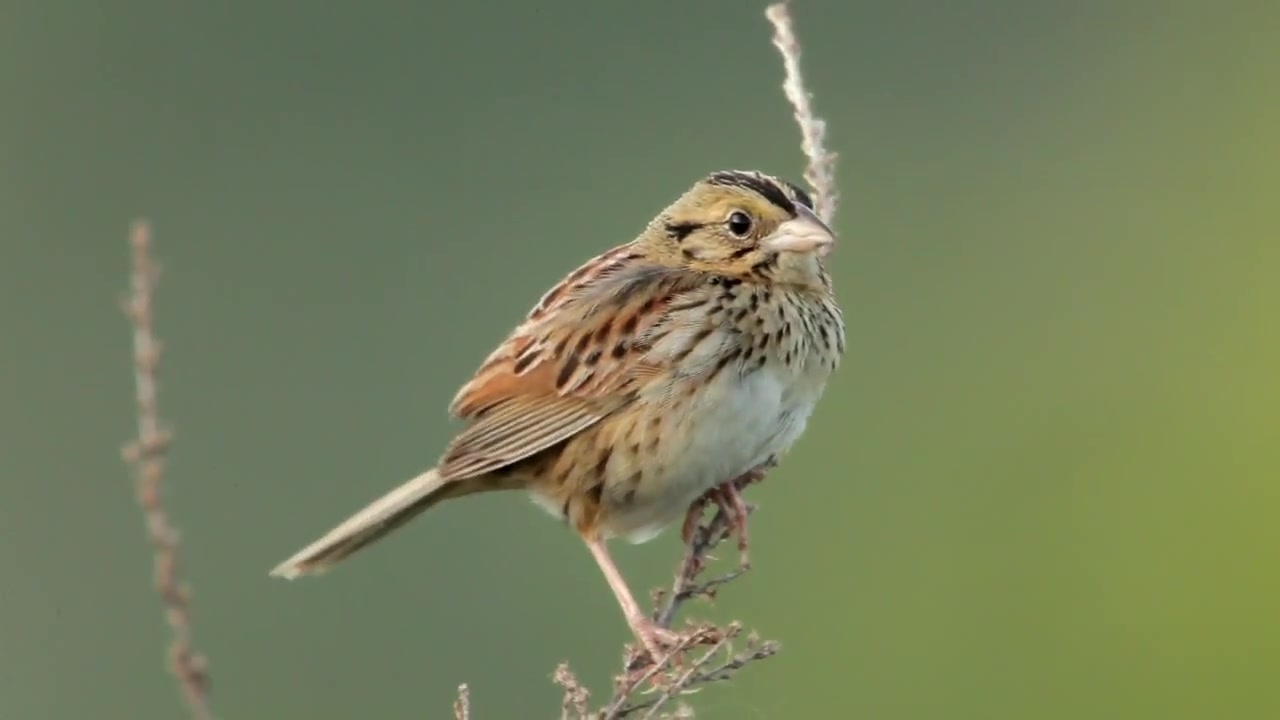bird: (268, 169, 848, 669)
